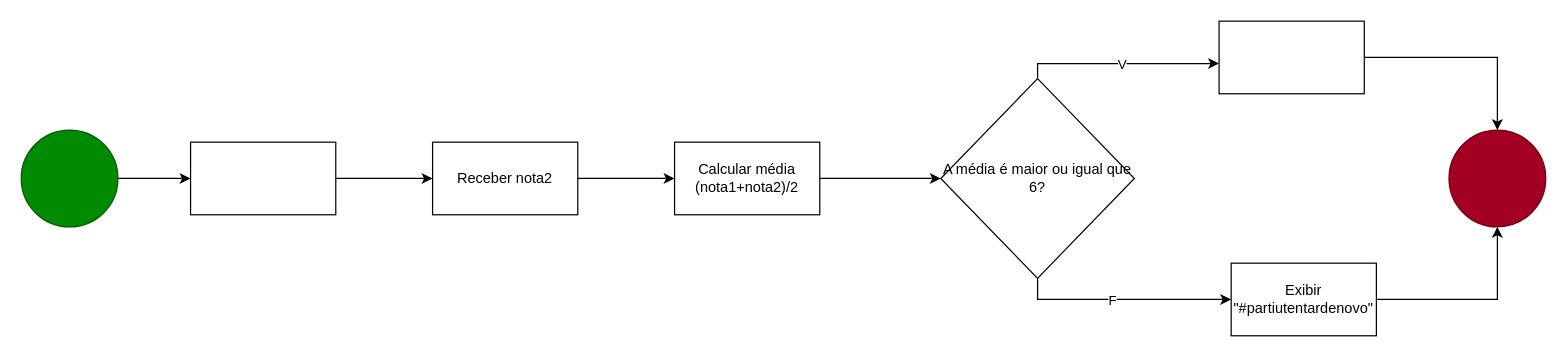
Image size: 1567x357. Some labels were removed from this diagram. Here are the shapes that lost their labels. From the top down, the centre of each, then its label:
point (1291, 57): Exibir "#partiuestágio"
point (262, 178): Receber nota1
